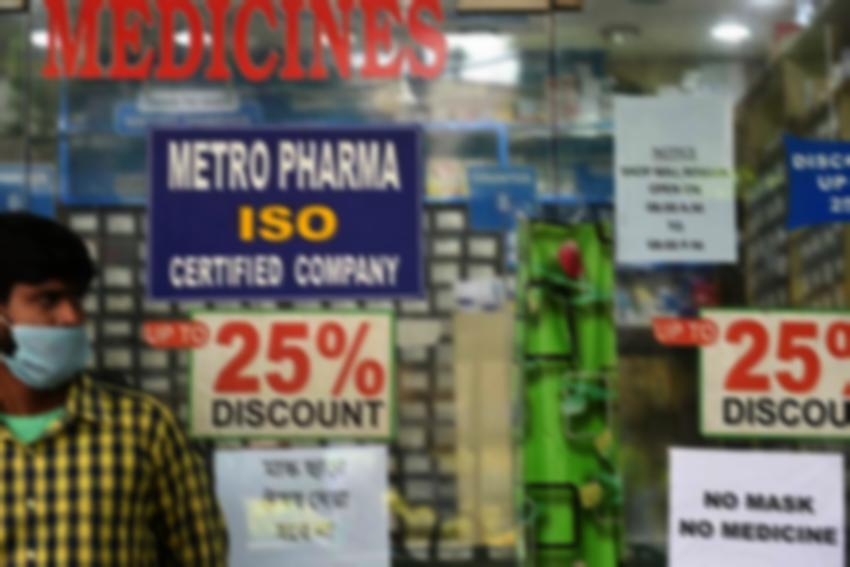mask_weared_incorrect: (3, 242, 109, 406)
